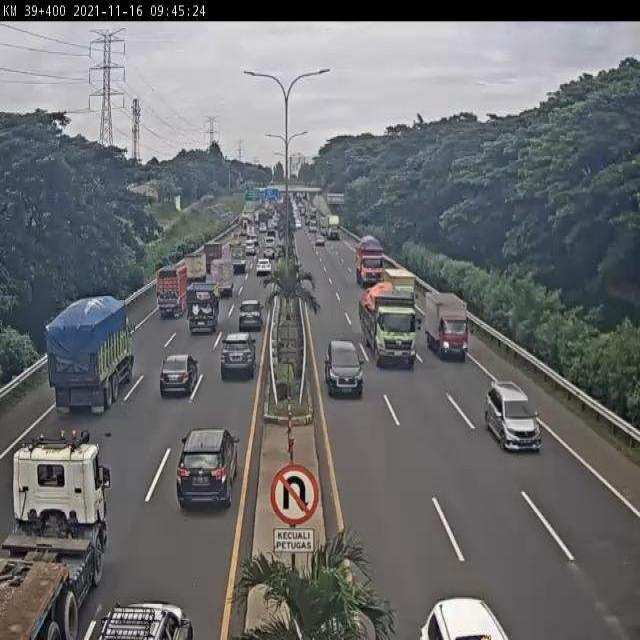car: (176, 429, 240, 512), (325, 336, 363, 401), (220, 333, 255, 380), (160, 355, 197, 396), (238, 301, 263, 331)
small truck: (482, 374, 541, 458), (426, 291, 469, 361)
truck-l-: (50, 296, 138, 416), (358, 280, 419, 368)
truck-m-: (156, 264, 190, 319), (185, 284, 219, 336)
truck-xl-: (0, 442, 109, 640)
